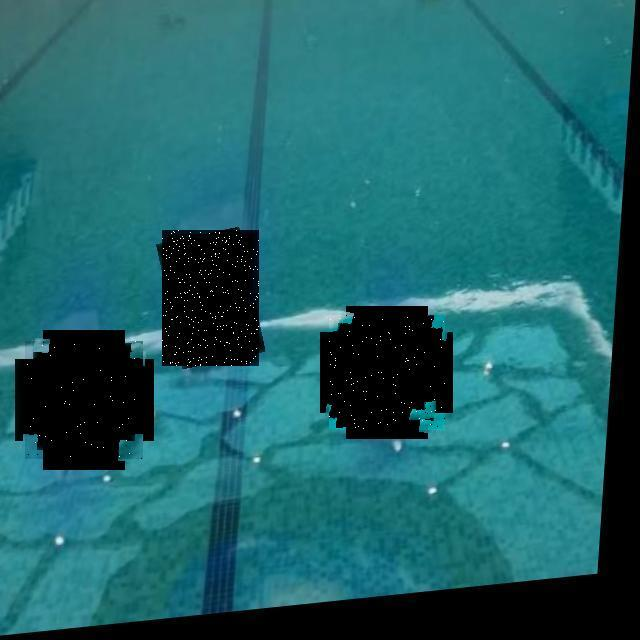swimming: (25, 341, 143, 459), (329, 315, 445, 430), (162, 230, 259, 366)
